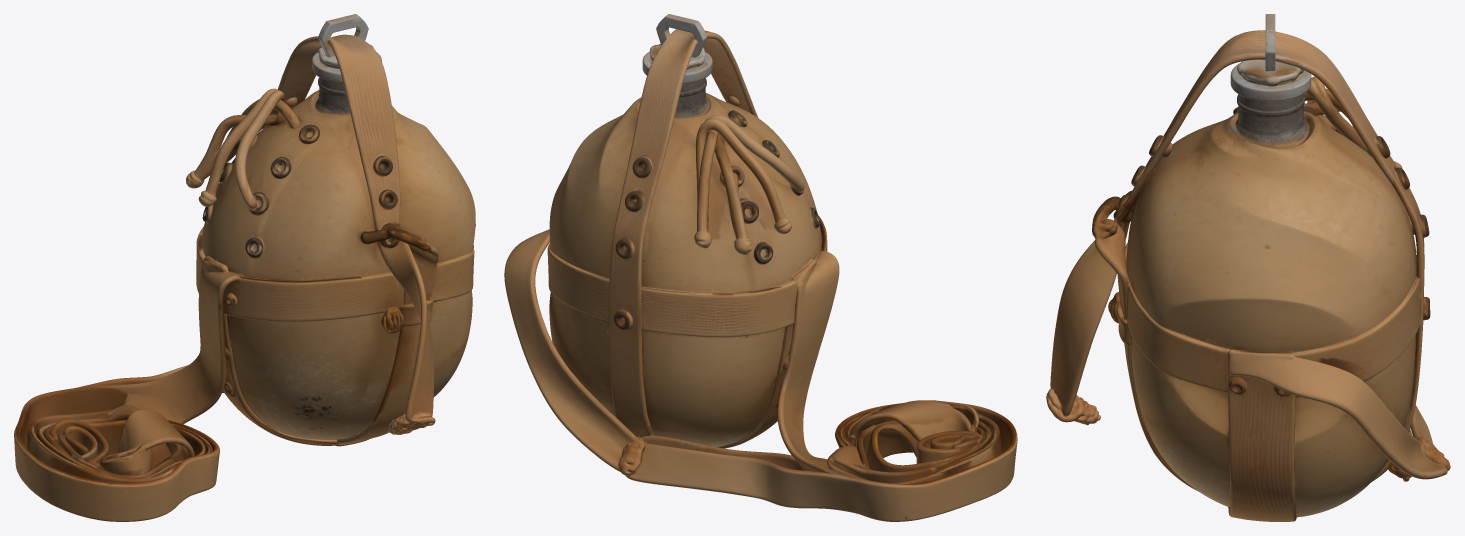
File: 淞沪会战时期我国士兵用的水壶.glb
The picture shows the model from 3 angles, left to right: view 1: azimuth 30°, elevation 25°; view 2: azimuth 150°, elevation 25°; view 3: azimuth 270°, elevation 25°; orthographic projection. The views are drawn at different scales.
Visible parts, largest first — view 1: texture_pbr_v128; view 2: texture_pbr_v128; view 3: texture_pbr_v128.
Part boxes in pixels (bbox=[...]): texture_pbr_v128: bbox=[14, 14, 475, 521]; texture_pbr_v128: bbox=[504, 14, 1017, 521]; texture_pbr_v128: bbox=[1046, 14, 1450, 521].
Bounding box in the file's own units: 0.9614 × 0.8218 × 0.6201.
1 material, 1 textured.
